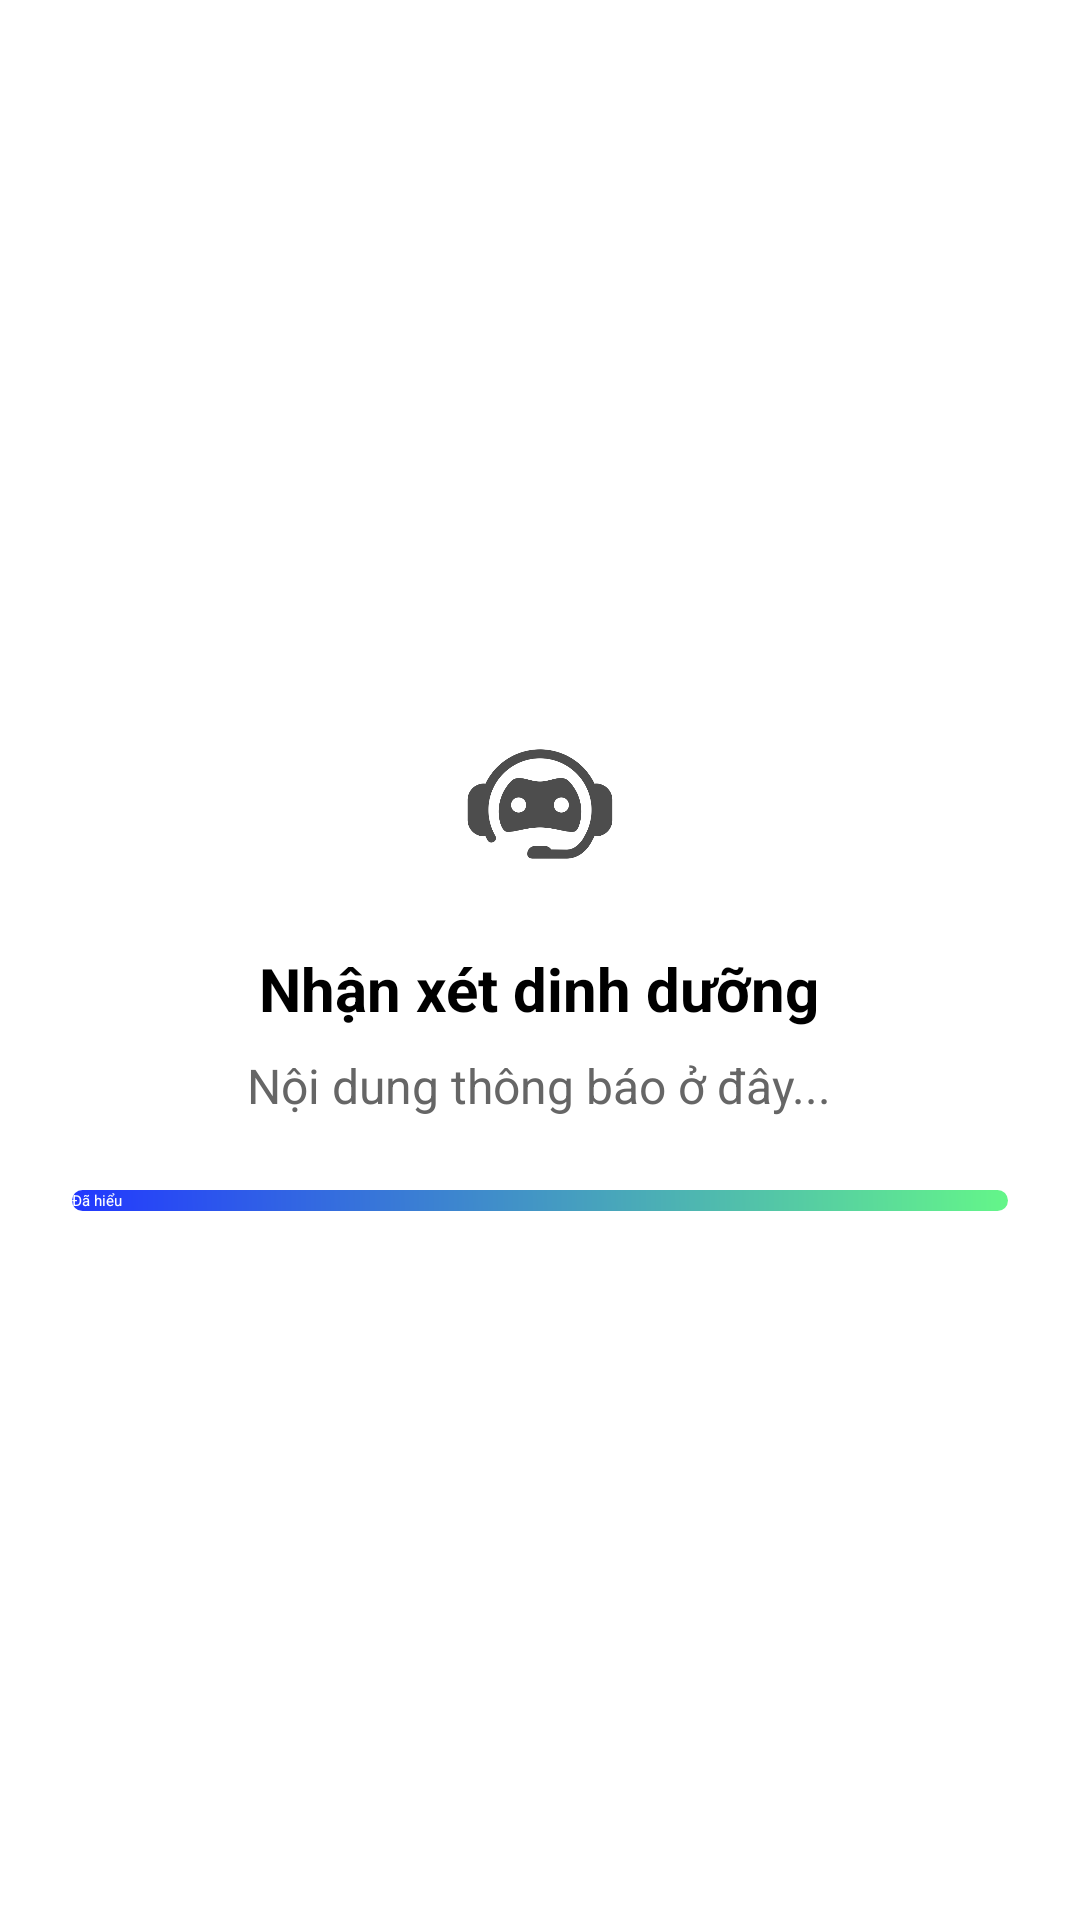

Locate icon controls on the screen. Image size 1080×1920, boxes as Rect(x1, y1, x2, y2).
chatbot: Rect(467, 749, 612, 859)
